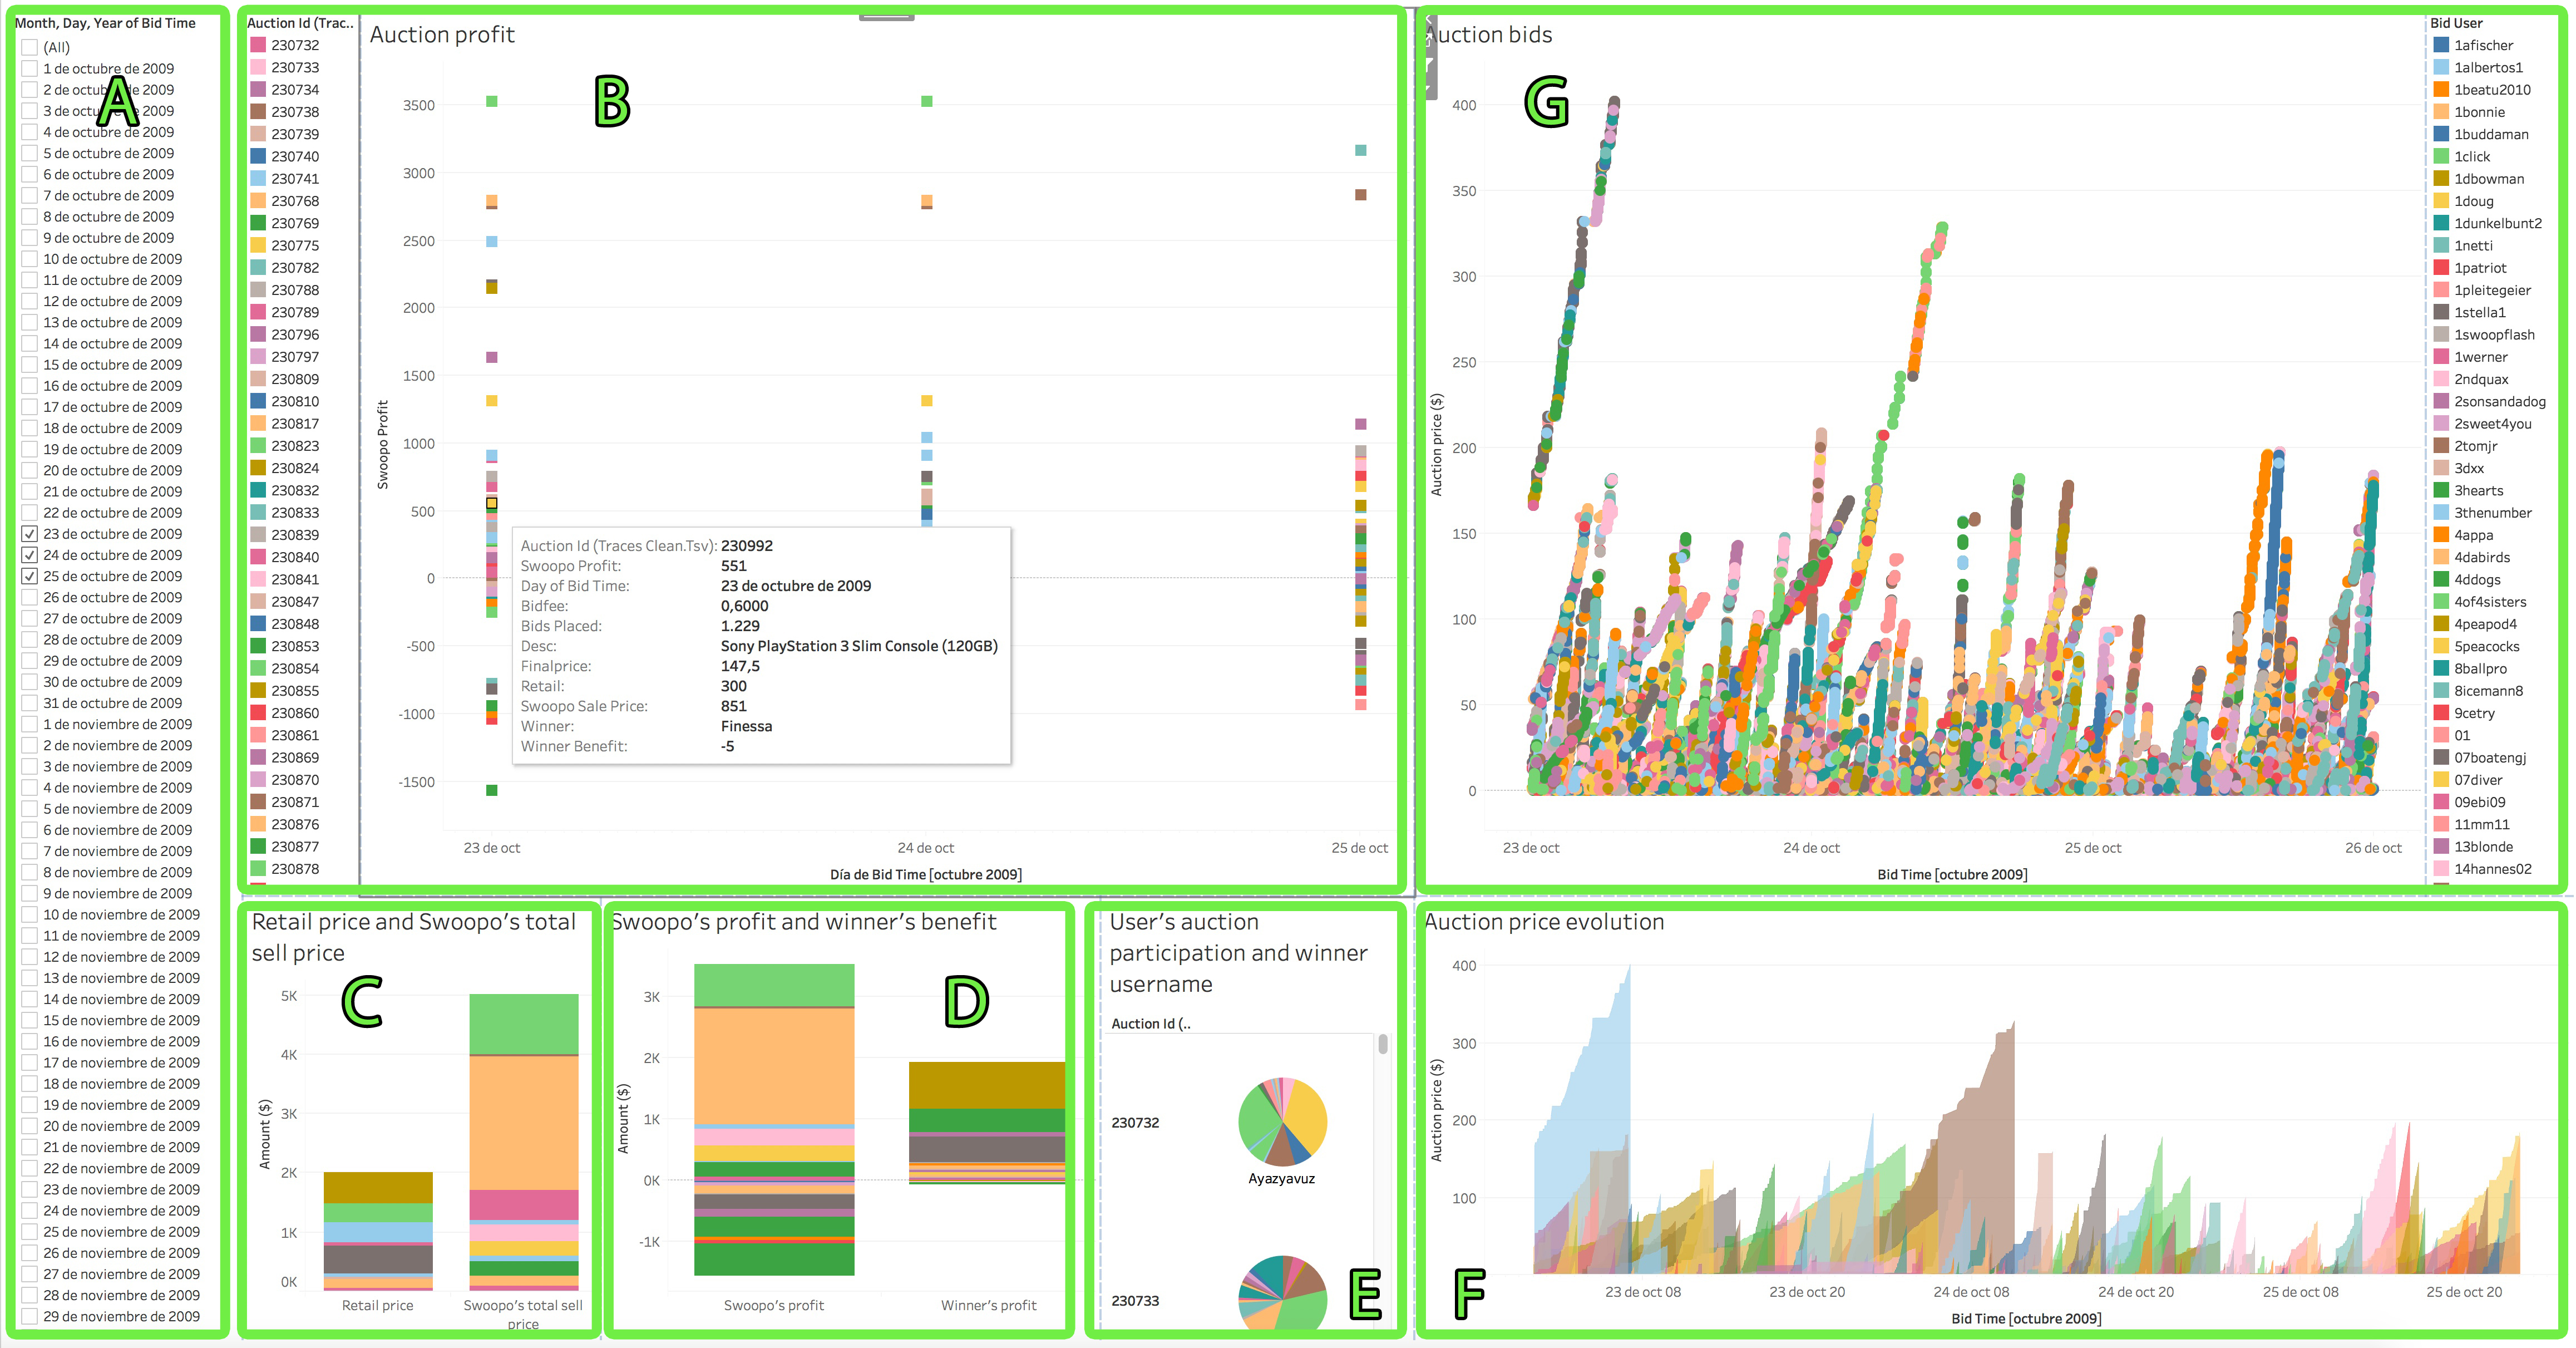

The page's visual inventory and layout, read from the dashboard file:
{"tool":"tableau","page":{"name":"Dashboard","canvas":[1000,1000],"units":"permille","ordinal":0},"visuals":[{"type":"filter","title":"Auction profit","param":"[federated.0qq0jvo1fasi1912zp8rx17w9vlu].[md:bid_time:ok]","box":[3.5,6.6,90.1,986.8]},{"type":"legend","title":"Auction profit","param":"[federated.0qq0jvo1fasi1912zp8rx17w9vlu].[none:auction_id (traces_clean.tsv):ok]","box":[93.5,6.6,45.7,657.9]},{"type":"worksheet","title":"Auction profit","mark":"Square","rows":["swoopo_profit"],"cols":["bid_time"],"box":[139.2,6.6,408,657.9]},{"type":"worksheet","title":"Auction bids","mark":"Circle","rows":["bid_cp"],"cols":["bid_time"],"box":[547.3,6.6,392,657.9]},{"type":"legend","title":"User's auction participation and winner username","param":"[federated.0qq0jvo1fasi1912zp8rx17w9vlu].[none:bid_user:nk]","box":[939.2,6.6,57.3,657.9]},{"type":"worksheet","title":"Retail price and Swoopo's total sell price","mark":"Bar","box":[93.5,664.5,138.6,328.9]},{"type":"worksheet","title":"Swoopo's profit and winner's benefit","mark":"Bar","box":[232.1,664.5,193.7,328.9]},{"type":"worksheet","title":"User's auction participation and winner username","mark":"Pie","rows":["auction_id (traces_clean.tsv)"],"box":[425.9,664.5,121.5,328.9]},{"type":"worksheet","title":"Auction price evolution","mark":"Area","rows":["bid_cp"],"cols":["bid_time"],"box":[547.4,664.5,449.1,328.9]}]}

Visuals, with their boxes on the dashboard's canvas, which has no fixed pixel size, in thousandths of its width and height (x1, y1, x2, y2). These are canvas units, not pixel positions in the 2576x1348 screenshot, which may show the page scaled, cropped or inside an application window:
"Auction profit" filter: (4, 7, 94, 993)
"Auction profit" legend: (94, 7, 139, 664)
"Auction profit" worksheet (Square marks): (139, 7, 547, 664)
"Auction bids" worksheet (Circle marks): (547, 7, 939, 664)
"User's auction participation and winner username" legend: (939, 7, 996, 664)
"Retail price and Swoopo's total sell price" worksheet (Bar marks): (94, 664, 232, 993)
"Swoopo's profit and winner's benefit" worksheet (Bar marks): (232, 664, 426, 993)
"User's auction participation and winner username" worksheet (Pie marks): (426, 664, 547, 993)
"Auction price evolution" worksheet (Area marks): (547, 664, 996, 993)
